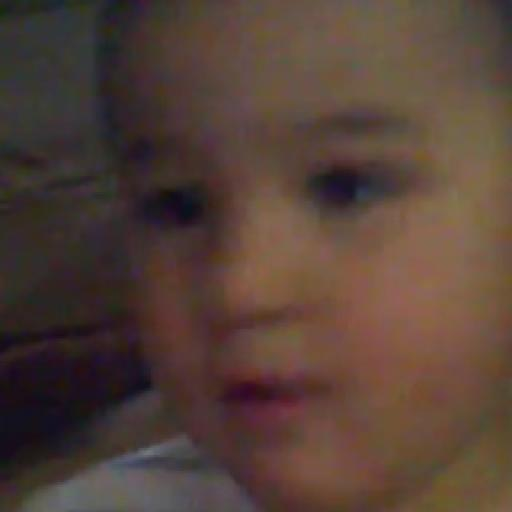Autism: (82, 2, 512, 512)
